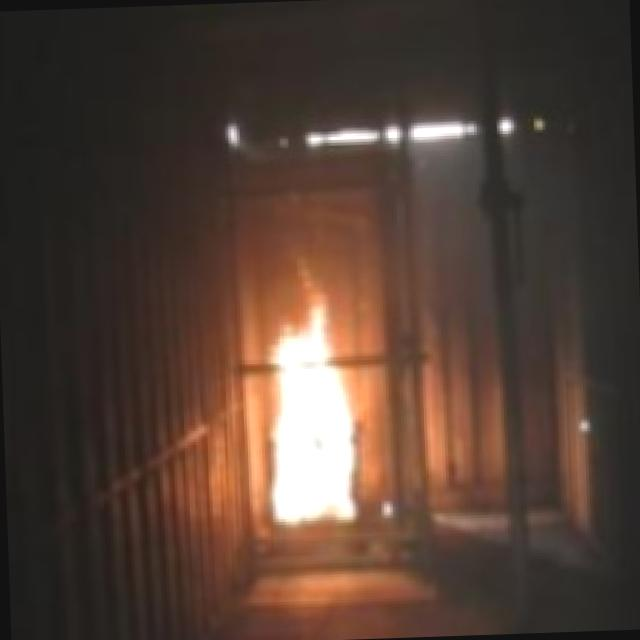fire: (240, 287, 378, 545)
